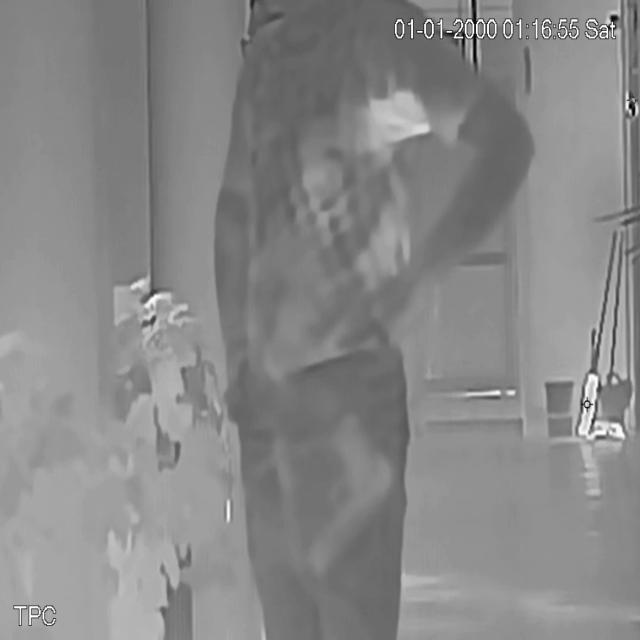Weapon: (300, 408, 404, 579)
